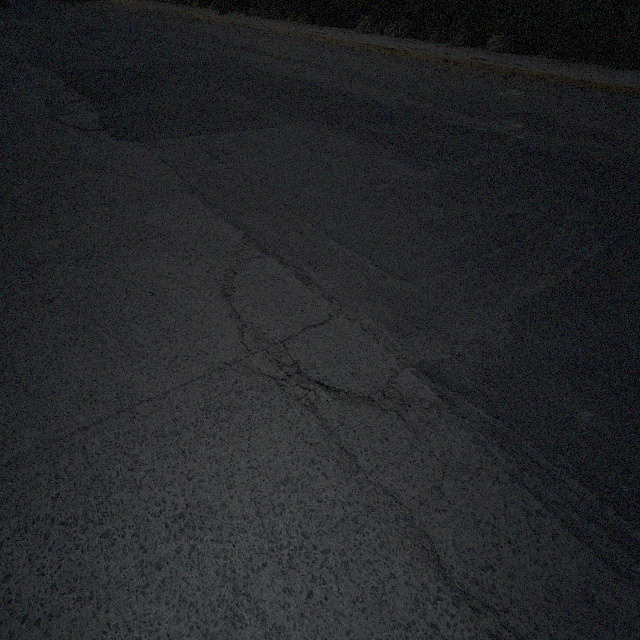pothole: (285, 354, 320, 407), (317, 378, 346, 409)
